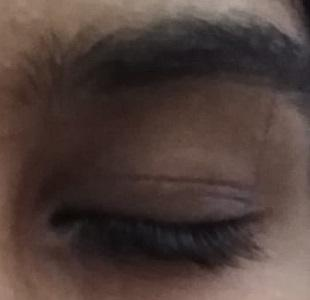close: (33, 140, 282, 284)
